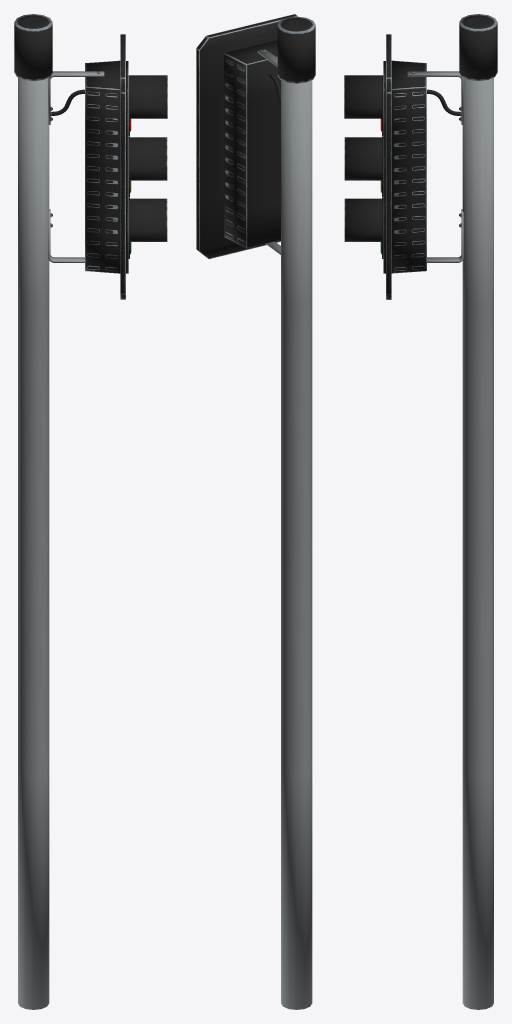
3 renders of one model, left to right at view 1: azimuth 90°, elevation 25°; view 2: azimuth 210°, elevation 25°; view 3: azimuth 270°, elevation 25°, orthographic.
Visible parts, largest first — view 1: Object_2; view 2: Object_2; view 3: Object_2.
Boxes of the visible parts, box(x1,y1,x2,y2) form: Object_2: box(14, 14, 167, 1009); Object_2: box(196, 14, 315, 1009); Object_2: box(344, 14, 497, 1009).
Bounding box in the file's own units: 0.4146 × 3.57 × 0.5052.
Materials: 1 (1 with a texture image).
